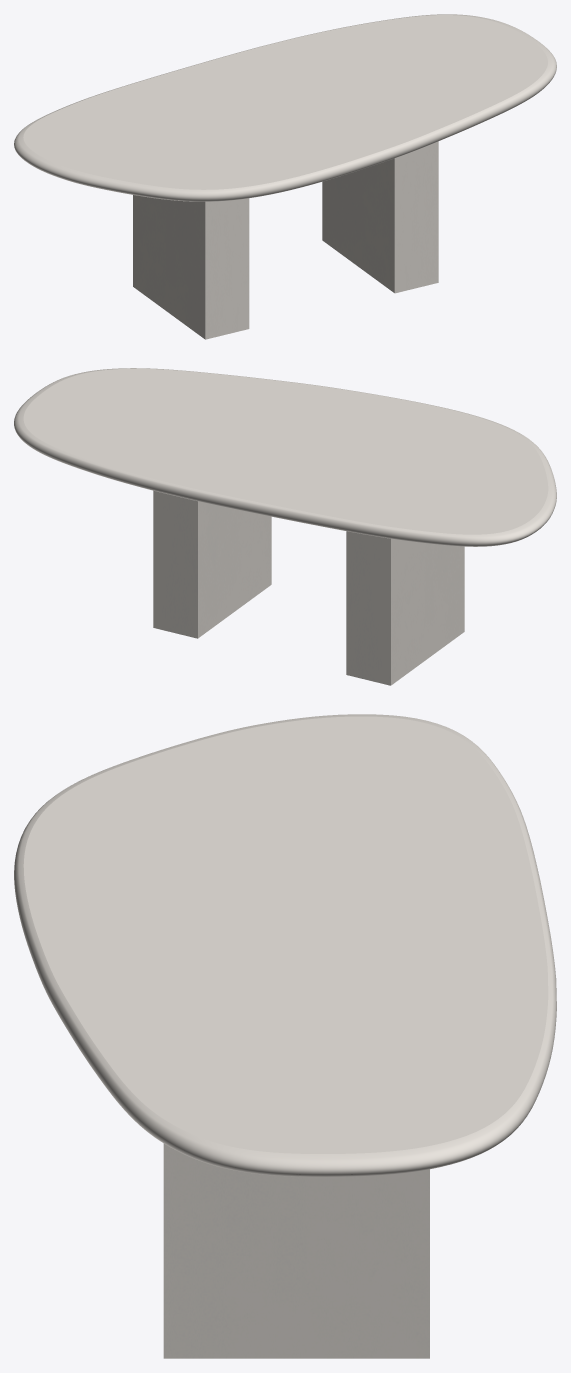
Rendered from pearlwhite_leaf2_round_ridge.glb.
3 views of the same model, one above another, from view 1: azimuth 30°, elevation 25°; view 2: azimuth 150°, elevation 25°; view 3: azimuth 270°, elevation 25° (orthographic). The views are drawn at different scales.
Parts seen in each view (by area): view 1: round_leaf2, ridge; view 2: round_leaf2, ridge; view 3: round_leaf2, ridge.
Boxes of the visible parts, x1,y1,x2,y2 form: round_leaf2: (14,14,556,201); ridge: (133,141,438,339); round_leaf2: (14,368,556,546); ridge: (153,490,464,685); round_leaf2: (14,714,556,1176); ridge: (163,1143,429,1358).
Bounding box in the file's own units: 7.5 × 2.52 × 3.8.
Materials: 1 (1 with a texture image).
